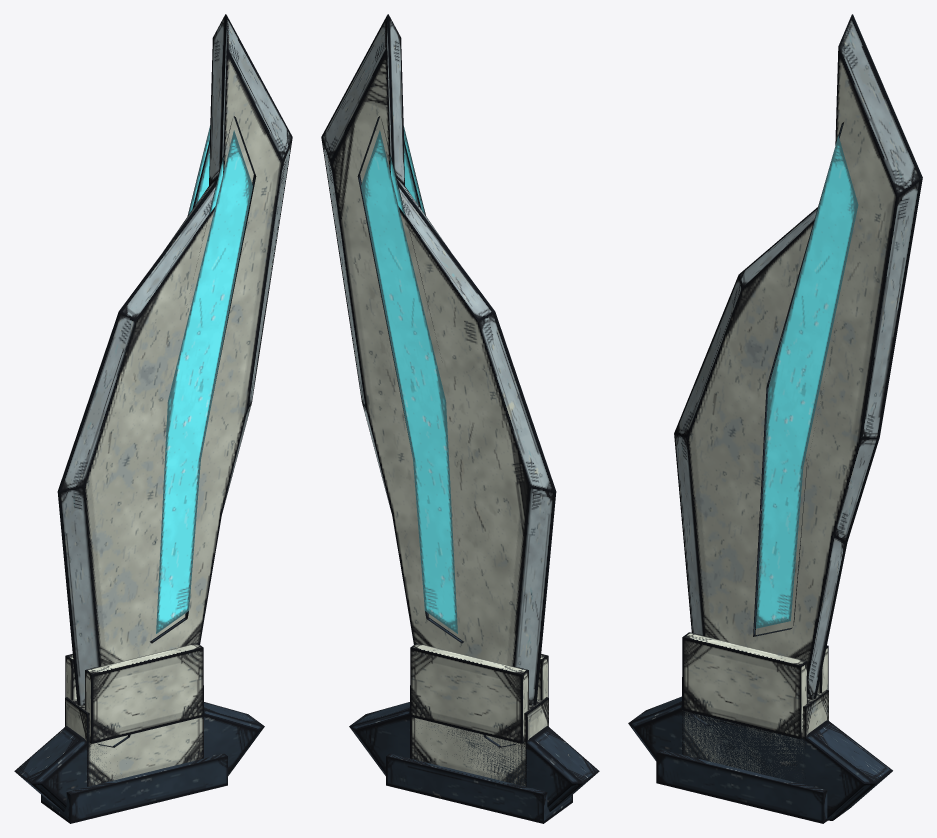
The model's file is blade_maliwan.glb.
3 views of the same model, side by side, from view 1: azimuth 30°, elevation 25°; view 2: azimuth 150°, elevation 25°; view 3: azimuth 330°, elevation 25° (orthographic). The views are drawn at different scales.
Visible parts, largest first — view 1: blade_maliwan; view 2: blade_maliwan; view 3: blade_maliwan.
Boxes of the visible parts, bbox=[...] form: blade_maliwan: bbox=[14, 14, 292, 823]; blade_maliwan: bbox=[321, 14, 599, 823]; blade_maliwan: bbox=[628, 14, 922, 823].
Bounding box in the file's own units: 0.53 × 1.42 × 0.1.
2 materials, 2 textured.
